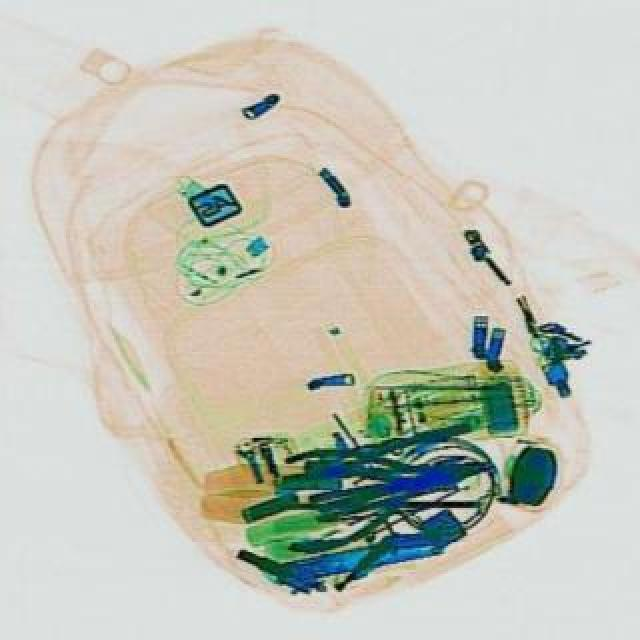wrench: (268, 414, 504, 558)
